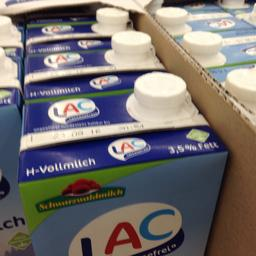milk: (10, 71, 228, 255)
